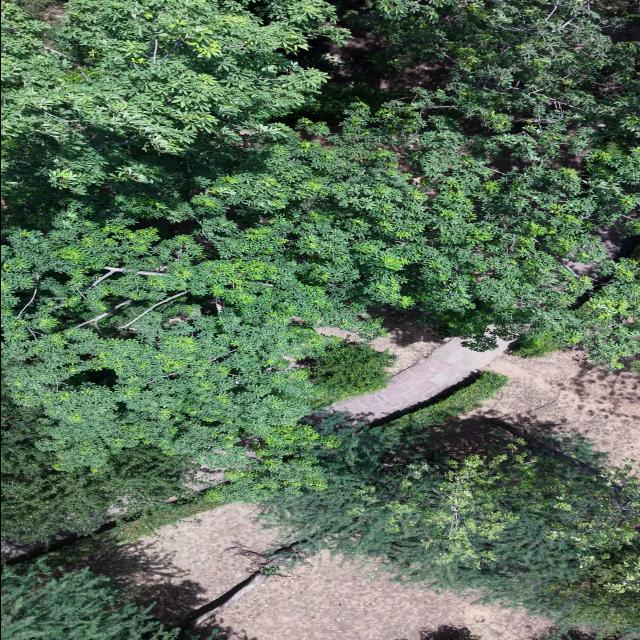DRY_AREA: (217, 553, 551, 639), (216, 553, 550, 639), (464, 350, 639, 465), (465, 349, 639, 464), (332, 337, 508, 422), (316, 307, 448, 374), (316, 326, 446, 374)
VEGETATION_TREE: (1, 0, 639, 633), (1, 0, 639, 500), (3, 371, 639, 639), (3, 0, 344, 467), (264, 374, 639, 635), (3, 0, 347, 189), (1, 402, 218, 639), (1, 498, 235, 639), (1, 539, 299, 639), (1, 400, 194, 540), (1, 558, 225, 639), (24, 492, 222, 565), (1, 561, 179, 639), (394, 371, 509, 427), (101, 493, 222, 542), (301, 341, 395, 403), (510, 331, 567, 357), (536, 629, 637, 639), (536, 629, 629, 639), (421, 625, 480, 639)
